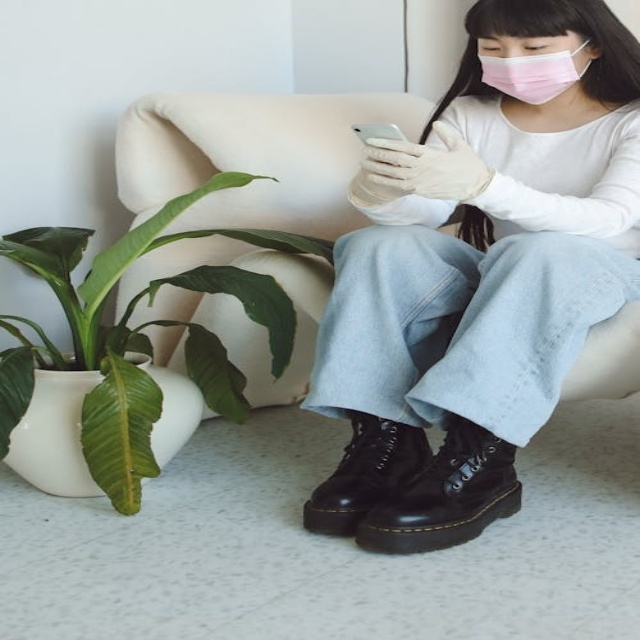Guantes: (352, 121, 493, 205)
Mascara: (478, 39, 592, 104)
Sin_gafas: (524, 45, 549, 51), (481, 46, 501, 52)
